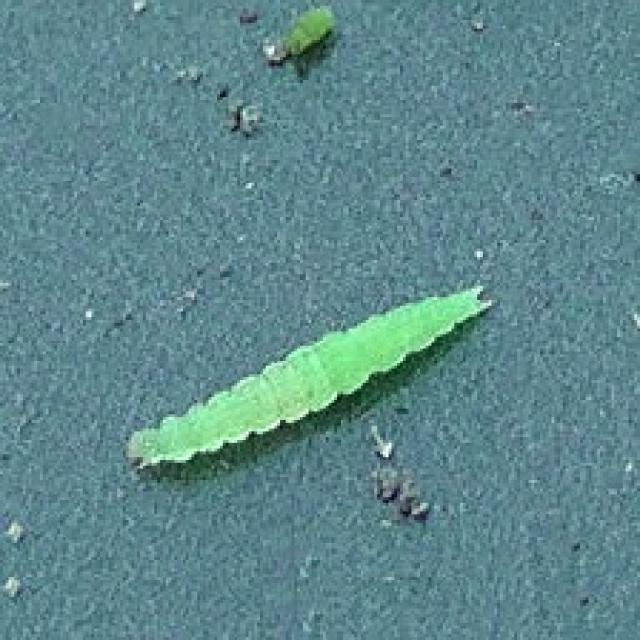Cabbage-worm: (107, 287, 500, 481)
